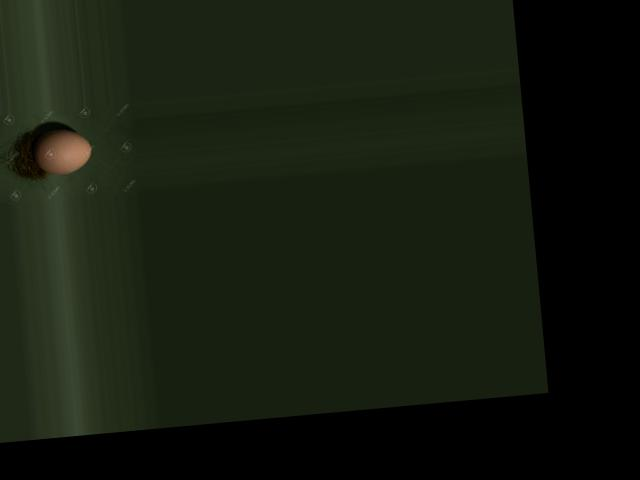egg: (32, 126, 93, 176)
